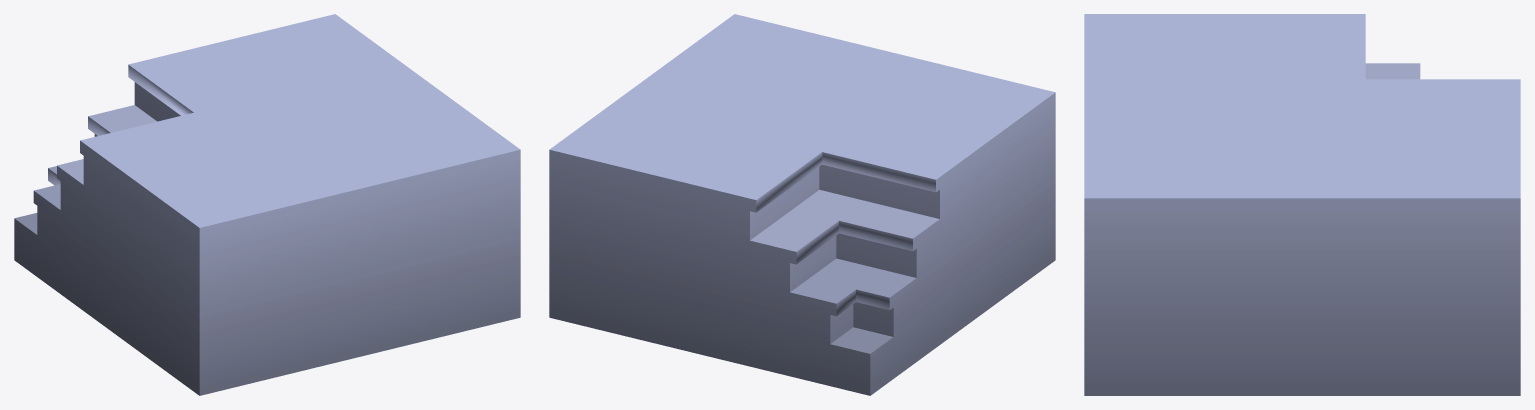
The model's file is kenney-fantasy-town-stairs-full-corner-inner.glb.
3 renders of one model, left to right at view 1: azimuth 30°, elevation 25°; view 2: azimuth 150°, elevation 25°; view 3: azimuth 270°, elevation 25°, orthographic. The views are drawn at different scales.
Parts seen in each view (by area): view 1: stairs-full-corner-inner; view 2: stairs-full-corner-inner; view 3: stairs-full-corner-inner.
Boxes of the visible parts, bbox=[...] form: stairs-full-corner-inner: bbox=[14, 14, 520, 395]; stairs-full-corner-inner: bbox=[549, 14, 1055, 395]; stairs-full-corner-inner: bbox=[1084, 14, 1520, 395].
Bounding box in the file's own units: 1 × 0.5001 × 1.
Materials: 1 (1 with a texture image).
